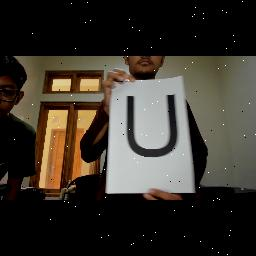u: (118, 90, 194, 176)
